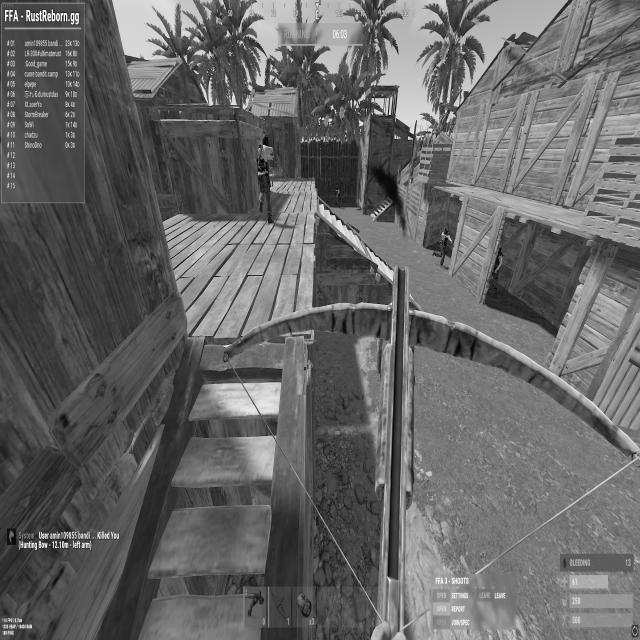Player: (256, 133, 274, 224), (491, 248, 503, 303), (439, 224, 452, 266), (261, 130, 270, 150), (335, 185, 341, 208), (444, 226, 450, 235), (497, 248, 503, 255), (337, 185, 339, 190)
